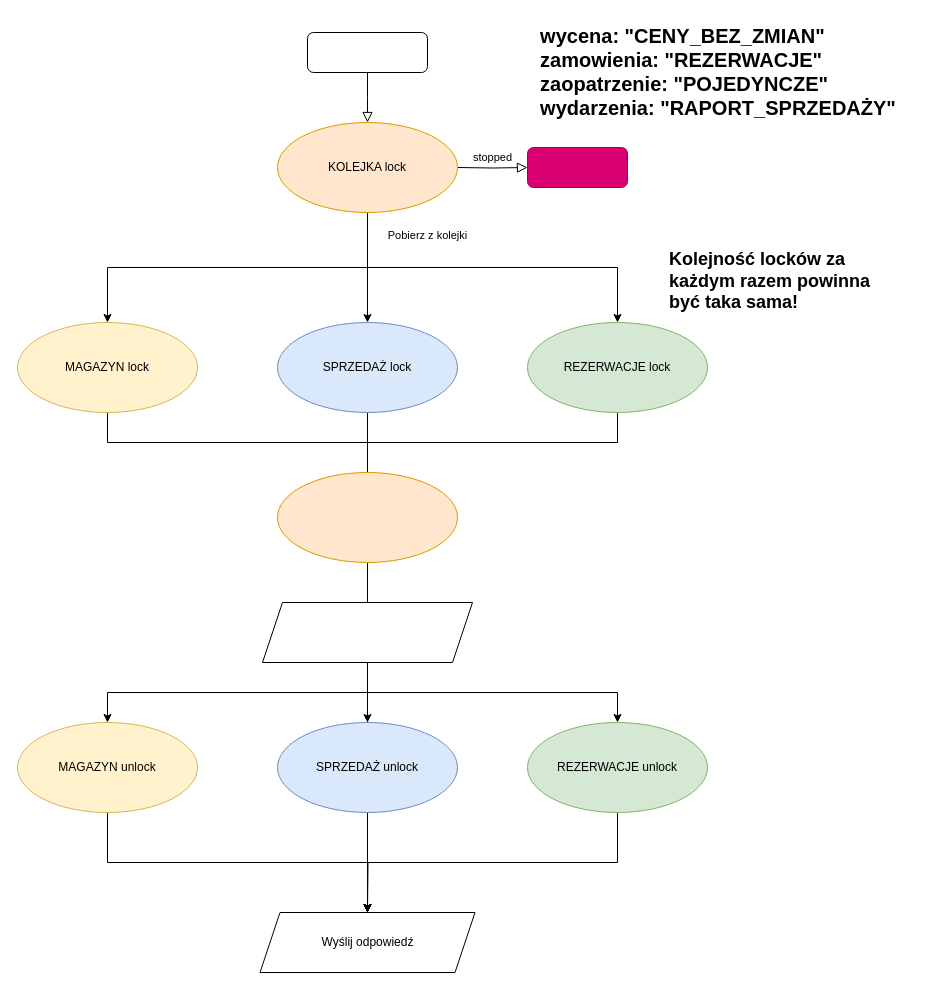
Image size: 935x990. Some labels were removed from this diagram. The box of each missing label's shape, as (x1, y1, x2, y2) in pixels:
KOLEJKA unlock: (276, 472, 458, 562)
Procesuj akcje: (262, 602, 472, 662)
WAIT: (526, 146, 628, 188)
Zadanie: (306, 32, 428, 72)
